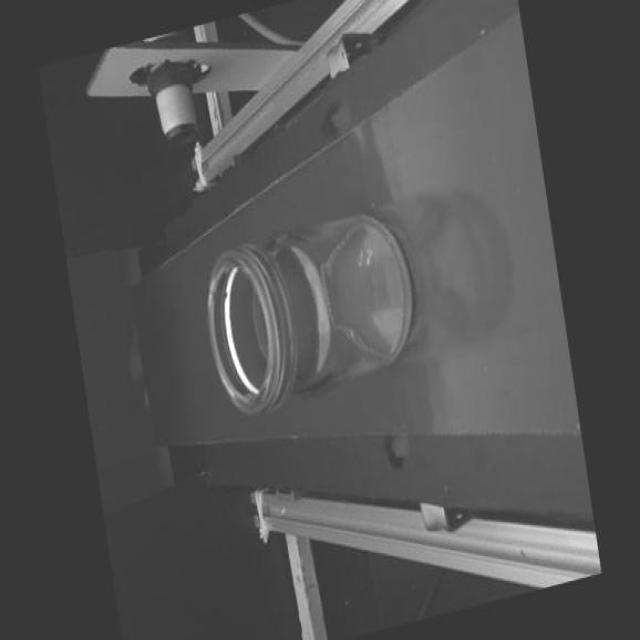defect: (210, 288, 218, 302), (223, 288, 230, 300)
glass: (194, 196, 426, 423)
